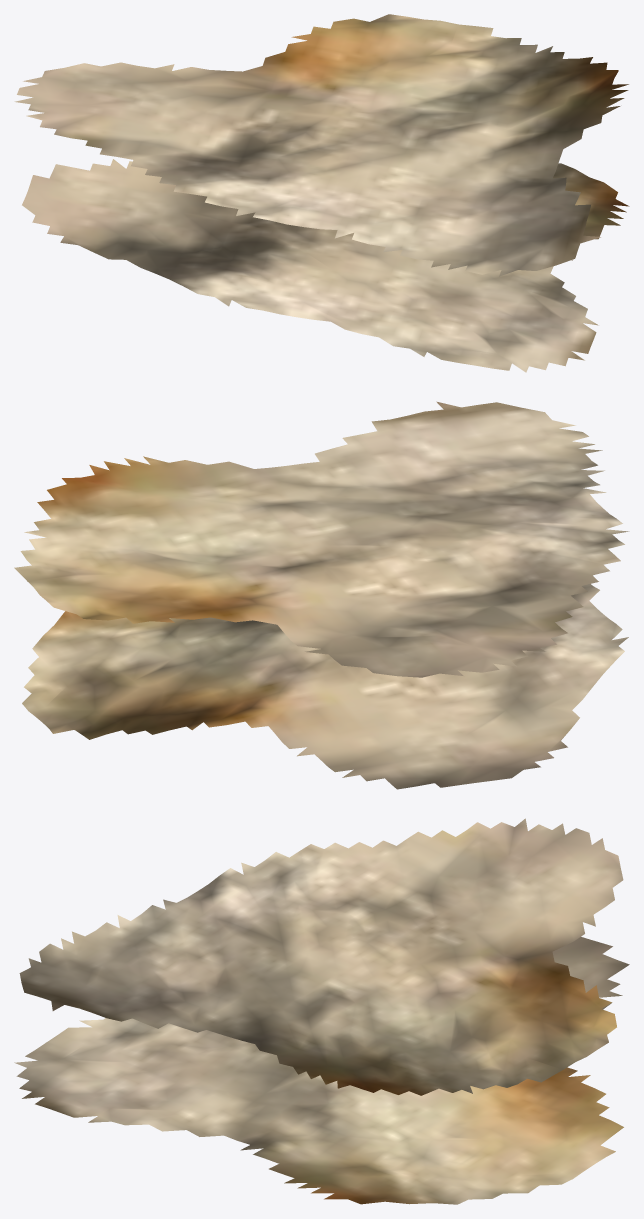
The model's file is chicken-2.glb.
3 views of the same model, one above another, from view 1: azimuth 30°, elevation 25°; view 2: azimuth 150°, elevation 25°; view 3: azimuth 270°, elevation 25° (orthographic). The views are drawn at different scales.
Parts seen in each view (by area): view 1: fetta di pollo_Default OBJ_0; view 2: fetta di pollo_Default OBJ_0; view 3: fetta di pollo_Default OBJ_0.
Part boxes in pixels (box(x1,y1,x2,y2)): fetta di pollo_Default OBJ_0: box(14, 14, 629, 372); fetta di pollo_Default OBJ_0: box(14, 401, 629, 789); fetta di pollo_Default OBJ_0: box(14, 818, 629, 1204).
Size of the model in its own units: 0.0289 by 0.00783 by 0.03.
1 material, 1 textured.
